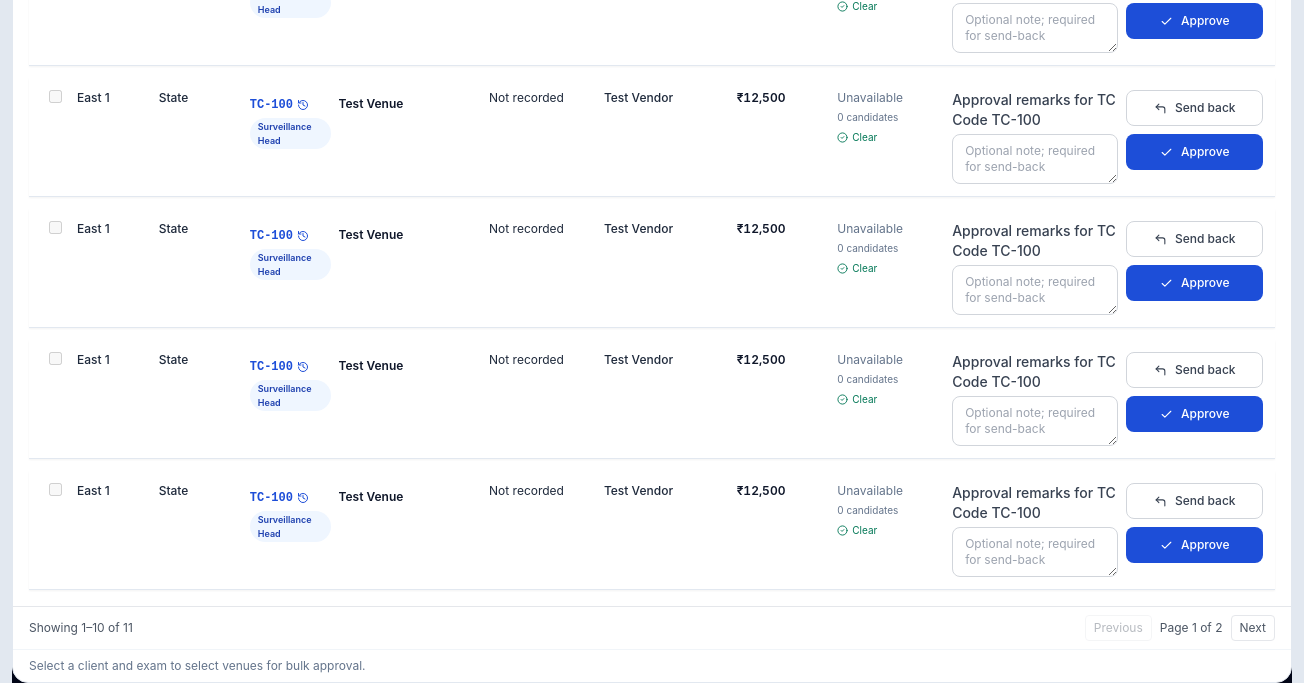
Test case: ApprovalsPage › paginates the approval queue
(page scrolled)
Expected: the text "Page 1 of 2" is shown, [1160, 620, 1223, 636]
Click the button with aria-label "Next page" at (1253, 628), box [1230, 615, 1275, 641]
(page scrolled)
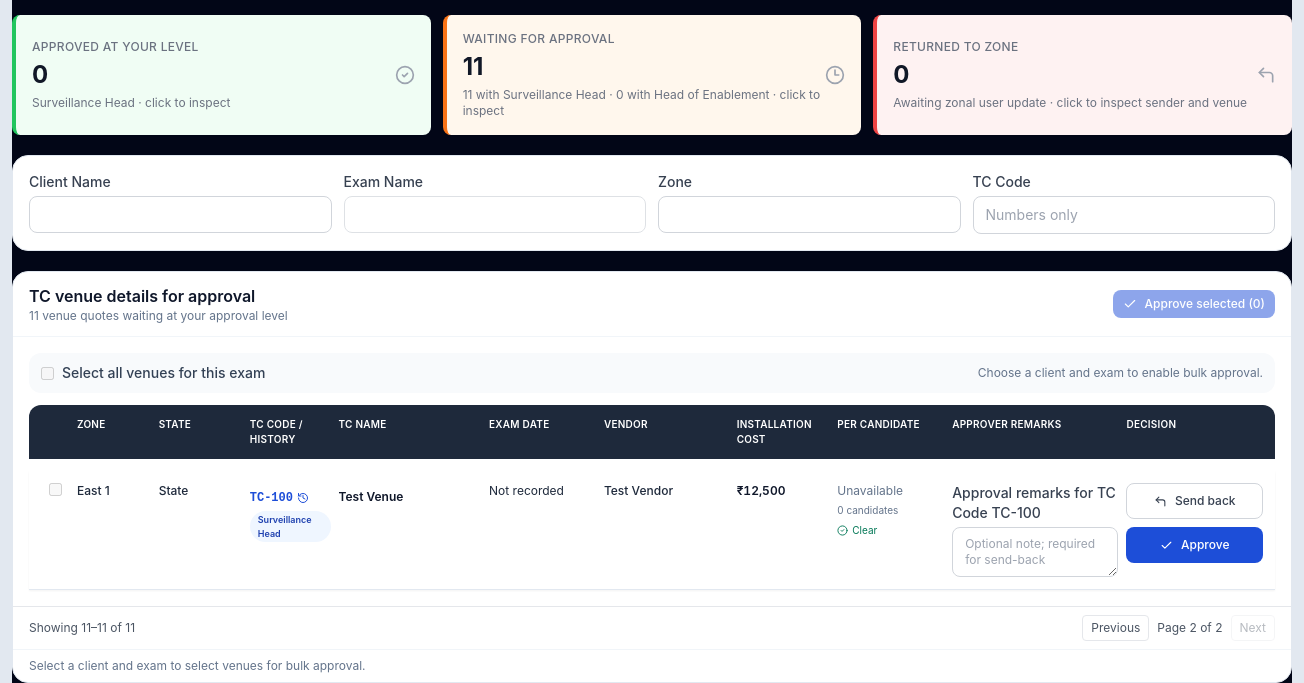
Expected: the text "Page 2 of 2" is shown, [1157, 620, 1222, 636]
